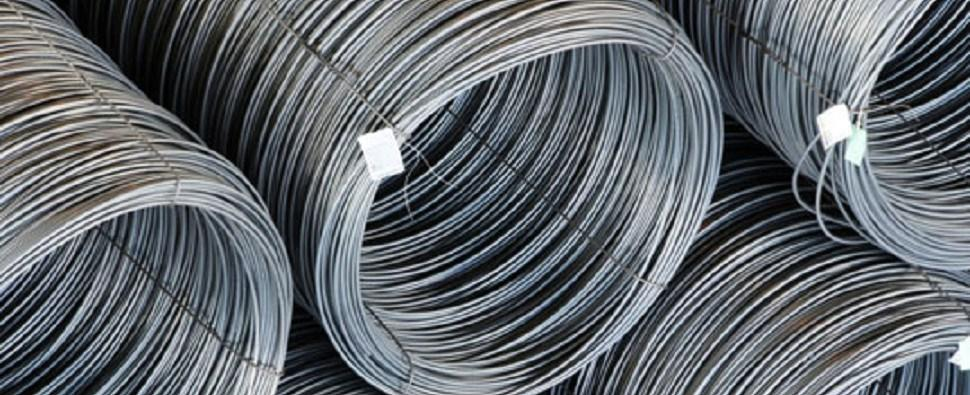Nonrec_Tangler: (5, 2, 960, 390), (269, 1, 710, 385), (5, 33, 321, 376), (702, 1, 959, 291)
